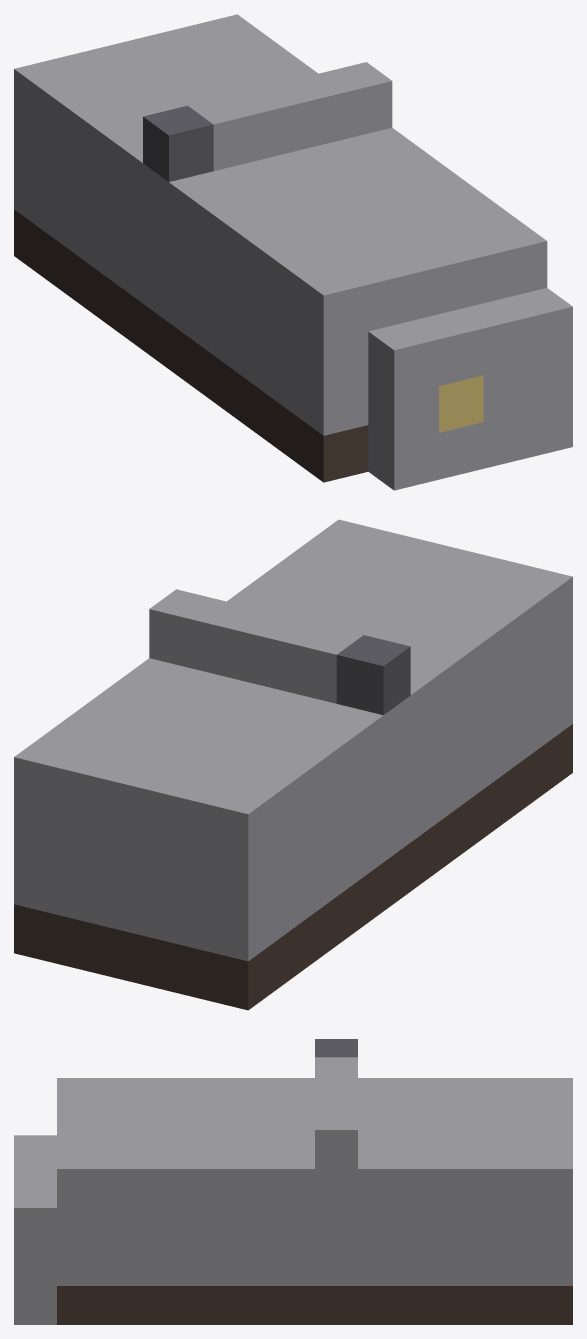
File: chain_epic_boot_foot_L_lod1.glb
The picture shows the model from 3 angles, top to bottom: view 1: azimuth 30°, elevation 25°; view 2: azimuth 150°, elevation 25°; view 3: azimuth 270°, elevation 25°; orthographic projection. The views are drawn at different scales.
Visible parts, largest first — view 1: chain_epic_boot_foot_L_lod1; view 2: chain_epic_boot_foot_L_lod1; view 3: chain_epic_boot_foot_L_lod1.
Part boxes in pixels (<box>): chain_epic_boot_foot_L_lod1: <box>14,14,572,490</box>; chain_epic_boot_foot_L_lod1: <box>14,519,572,1010</box>; chain_epic_boot_foot_L_lod1: <box>14,1039,572,1324</box>.
Bounding box in the file's own units: 0.12 × 0.12 × 0.312.
